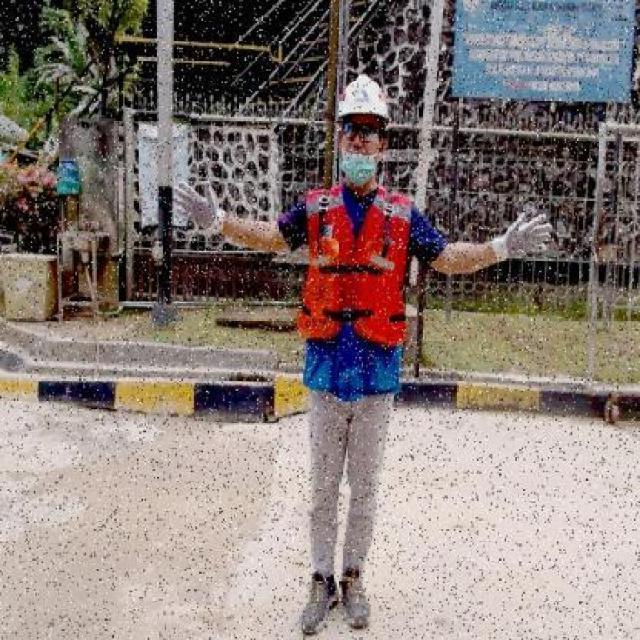gloves: (490, 203, 554, 267), (172, 177, 221, 237)
goggles: (339, 123, 385, 142)
helmet: (335, 74, 389, 122)
safety_vest: (288, 179, 418, 401)
